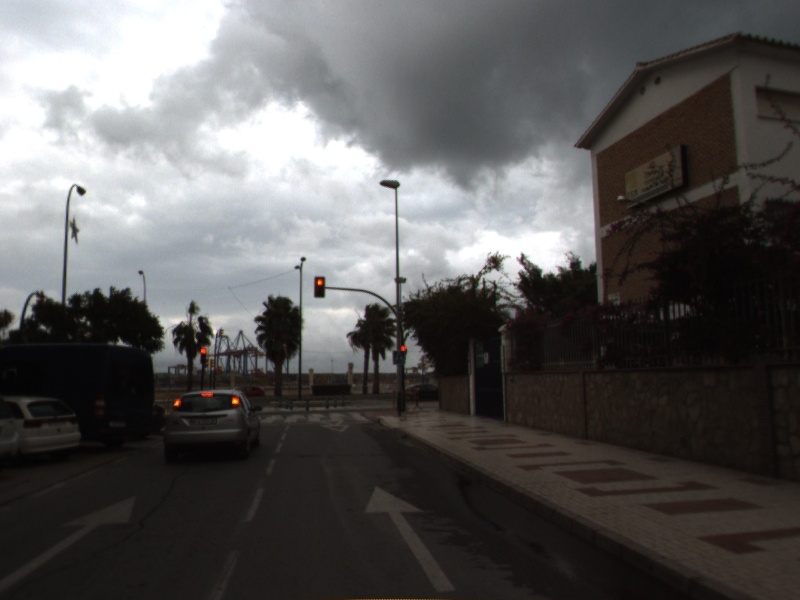STRAIGHT: (1, 490, 140, 592), (362, 482, 460, 595)
